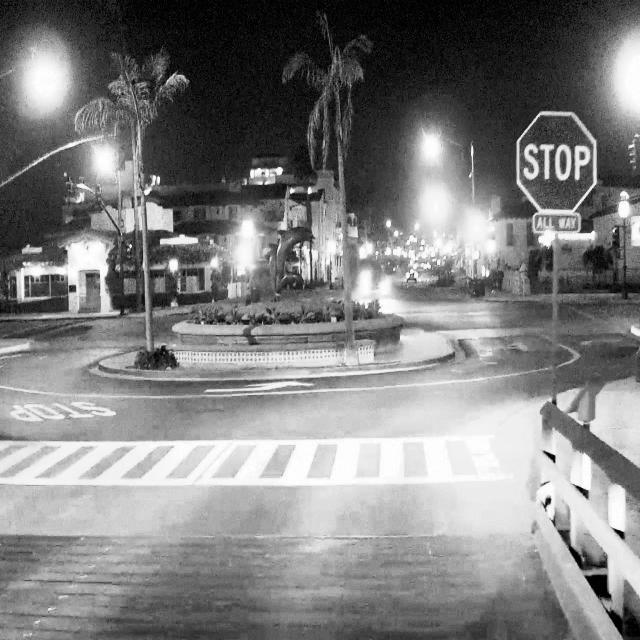Sign: (516, 111, 598, 211), (533, 211, 581, 233)
Tree: (103, 44, 179, 369), (299, 16, 364, 368)
